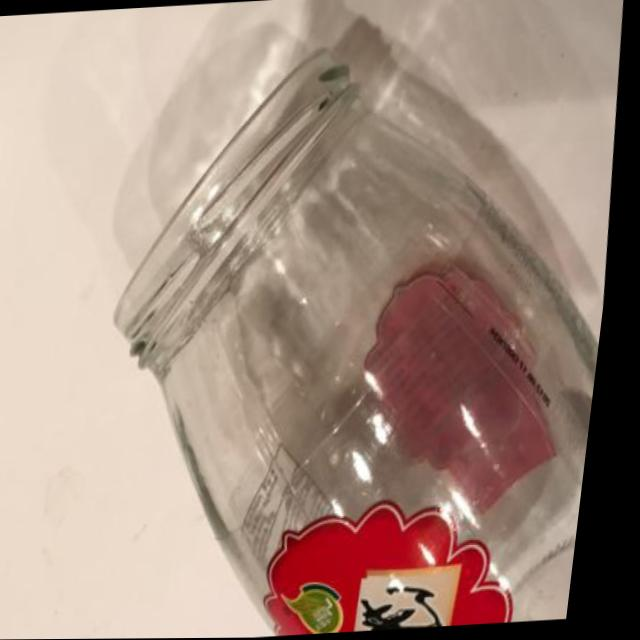glass: (24, 0, 640, 640)
